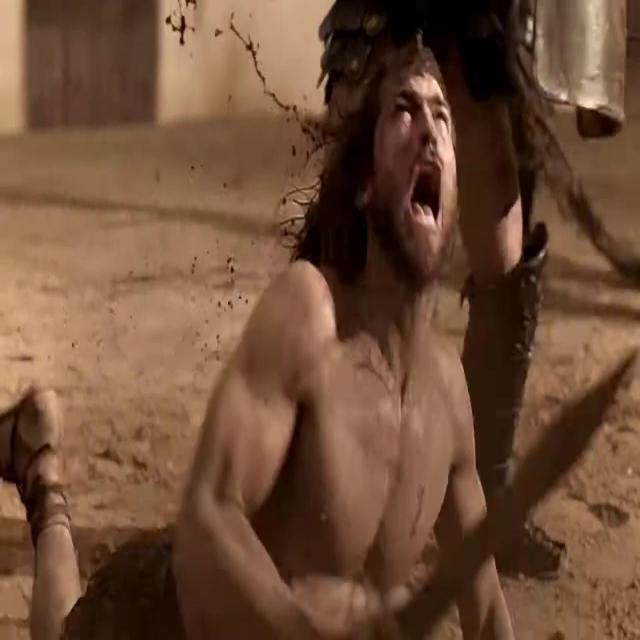flood: (157, 2, 331, 255)
